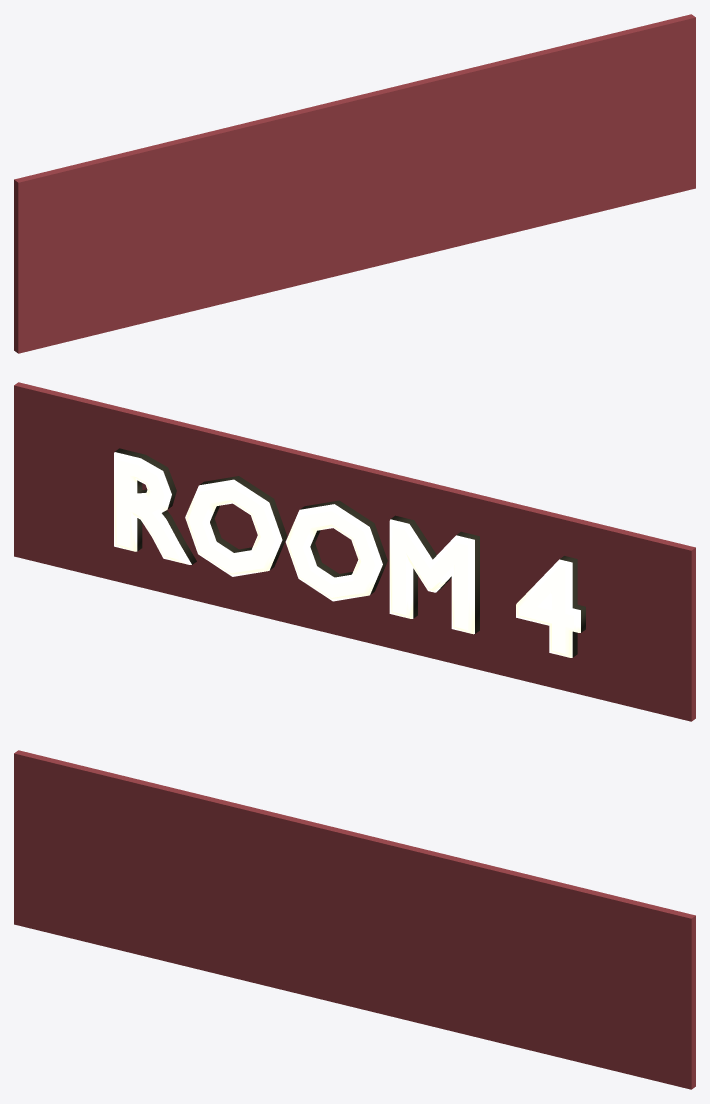
3 renders of one model, top to bottom at view 1: azimuth 30°, elevation 25°; view 2: azimuth 150°, elevation 25°; view 3: azimuth 330°, elevation 25°, orthographic.
Visible parts, largest first — view 1: c_room4; view 2: c_room4; view 3: c_room4.
Boxes of the visible parts, x1,y1,x2,y2 form: c_room4: (14,14,695,353); c_room4: (14,382,695,721); c_room4: (14,750,695,1089).
Bounding box in the file's own units: 589 × 142 × 18.06.
